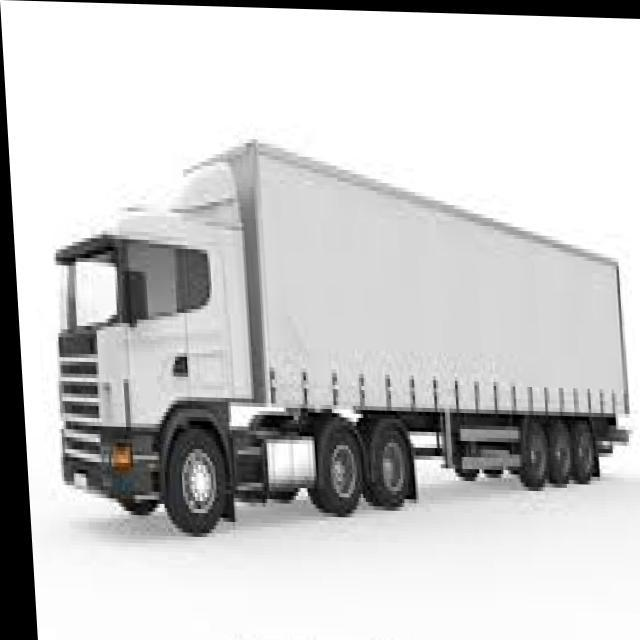covered: (37, 125, 633, 542)
